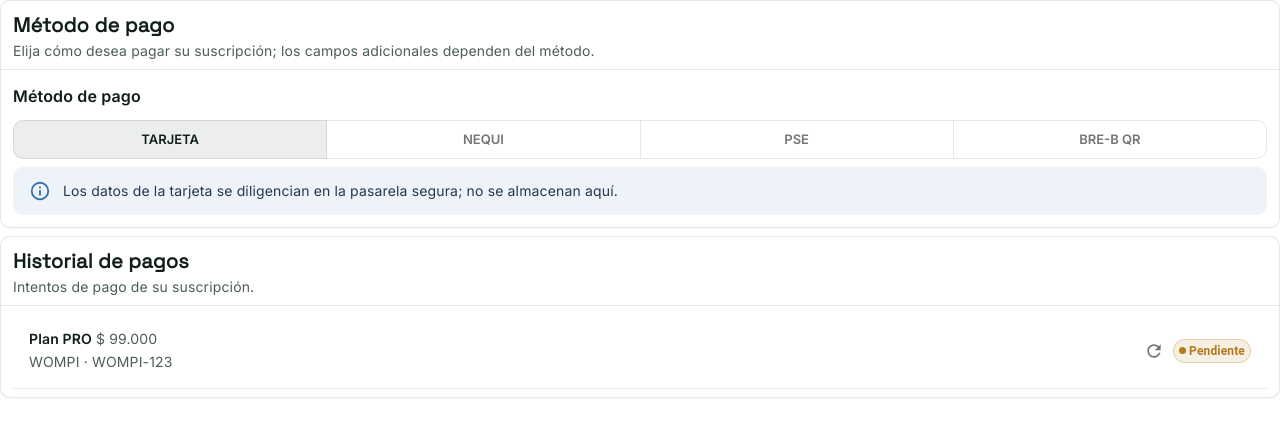
Scenario: PagosPanel › actualiza el estado de un pago al consultarlo
Expected: the text "Pendiente" is shown, [1173,339,1251,363]
Click the button named "Actualizar estado de WOMPI-123".
click(1154, 351)  # box [1139,336,1169,366]
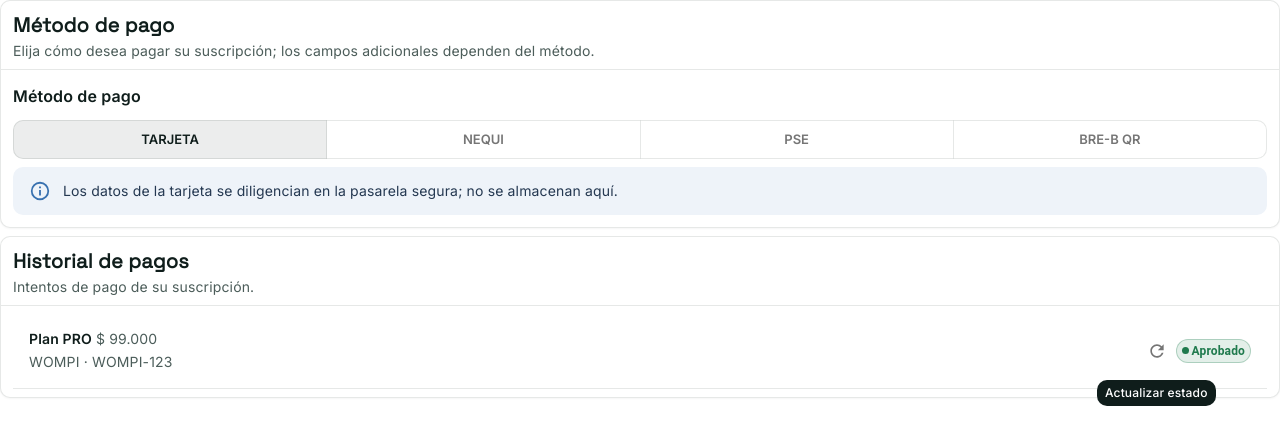
Now the text "Aprobado" is shown, box [1176,339,1251,363]
